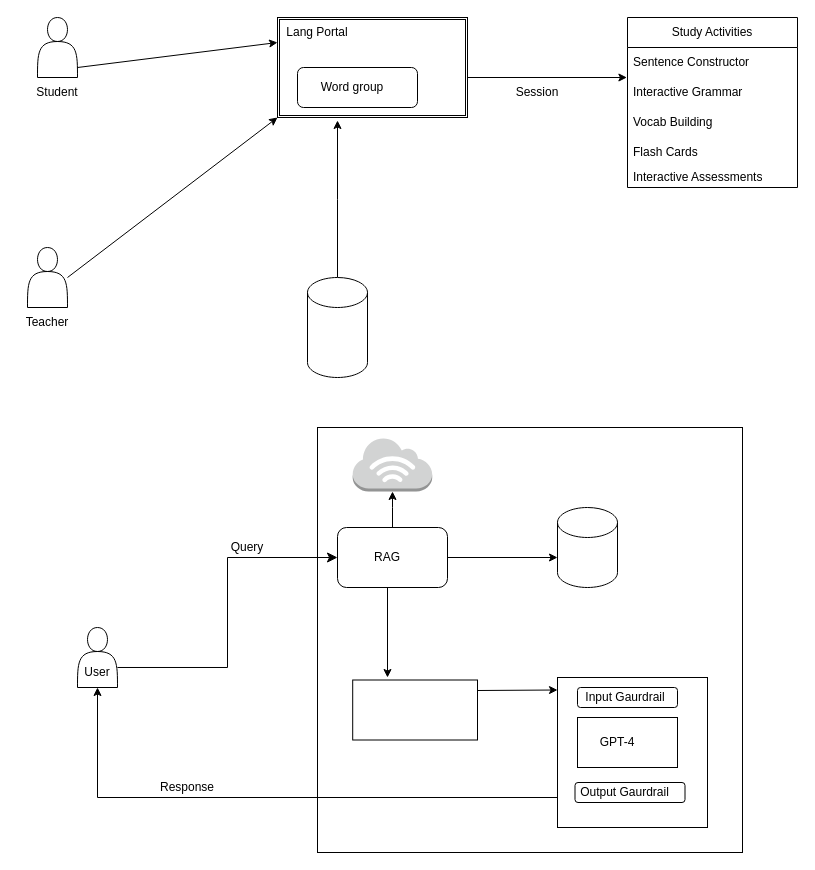
This 815x870 diagram has some shape labels left out. The shapes that lost their labels are listed below. From the top down, each one's centre as x and y in pixels, then its label:
the point at 337,327: DB
the point at 587,547: Vector DB
the point at 415,709: Prompt Cache
